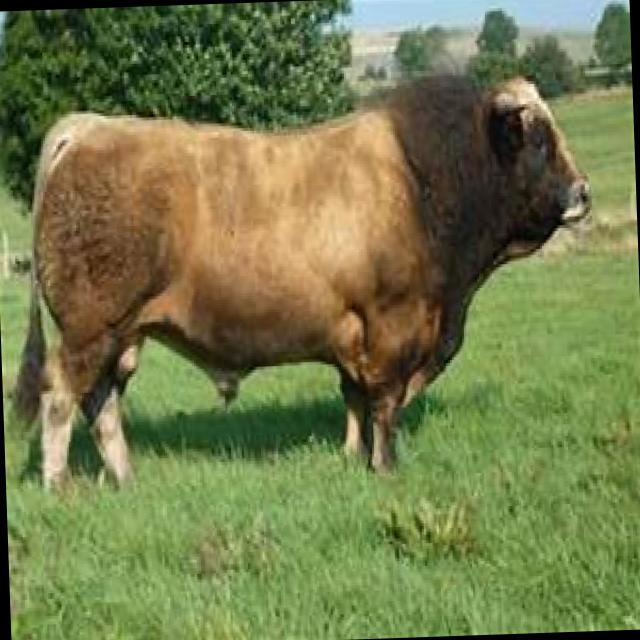animal: (9, 32, 608, 488)
